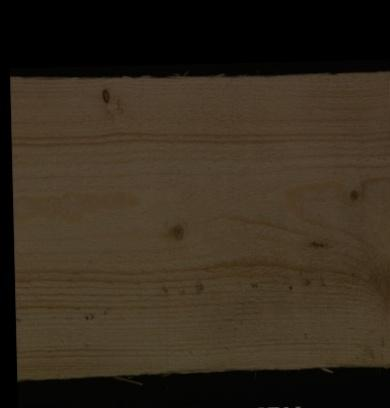dry_knot: (99, 84, 111, 107)
sound_knot: (165, 220, 188, 245), (345, 185, 361, 204)
